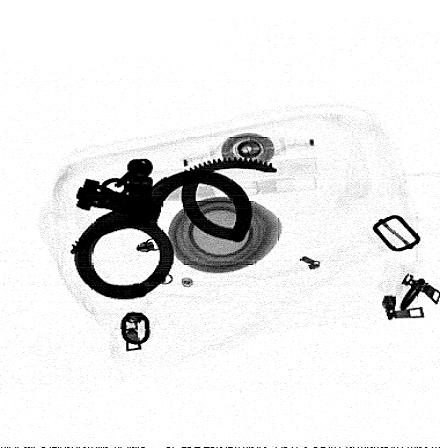HandCuffs: (65, 153, 282, 302)
